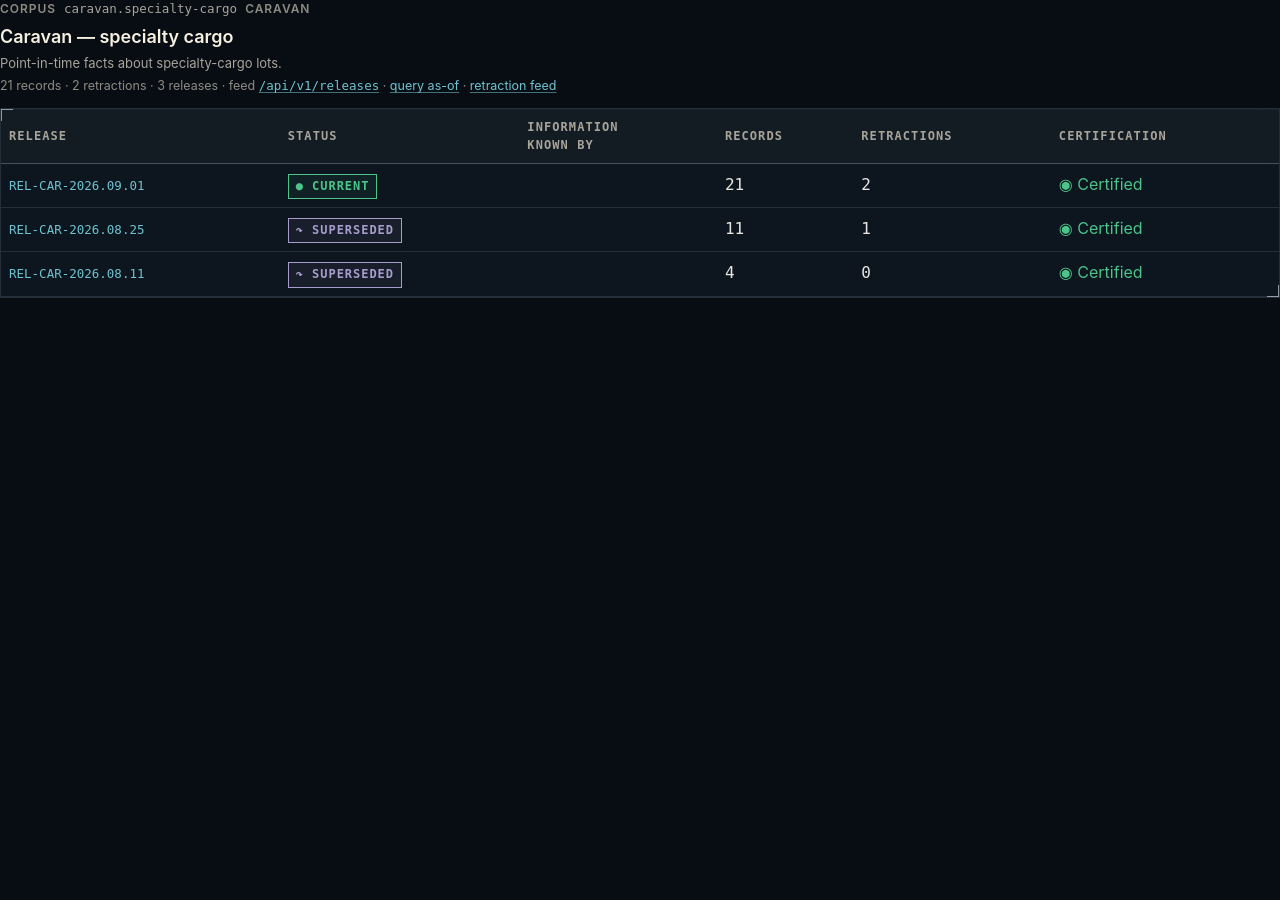
it: one release, in context › opens the inspector on the release chosen, and marks that row alone
Click the button "REL-CAR-2026.08.25" at (140, 228), box [9,216,272,240]
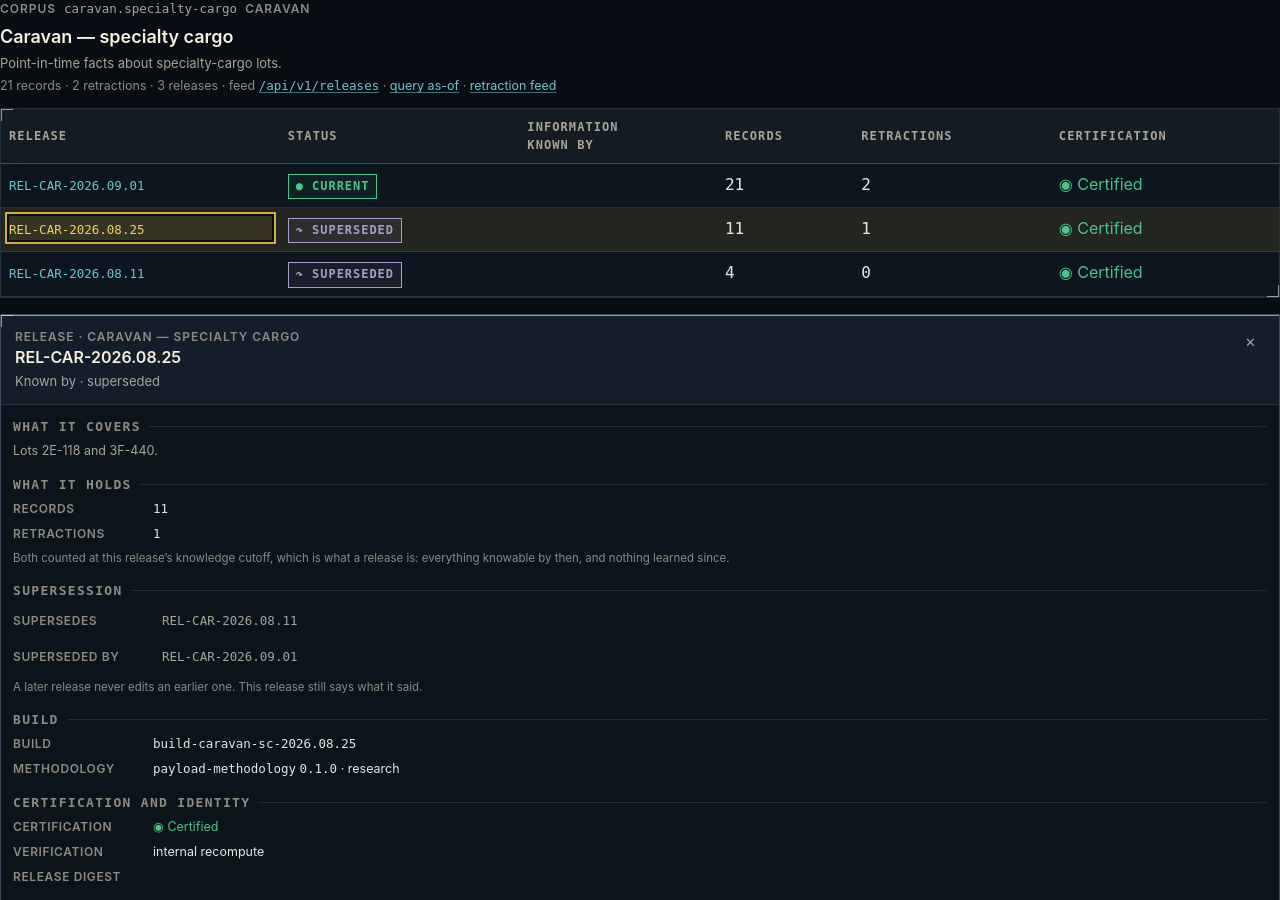
Expected: the element with test id "release-inspector" shows "REL-CAR-2026.08.25", [15,347,181,367]
